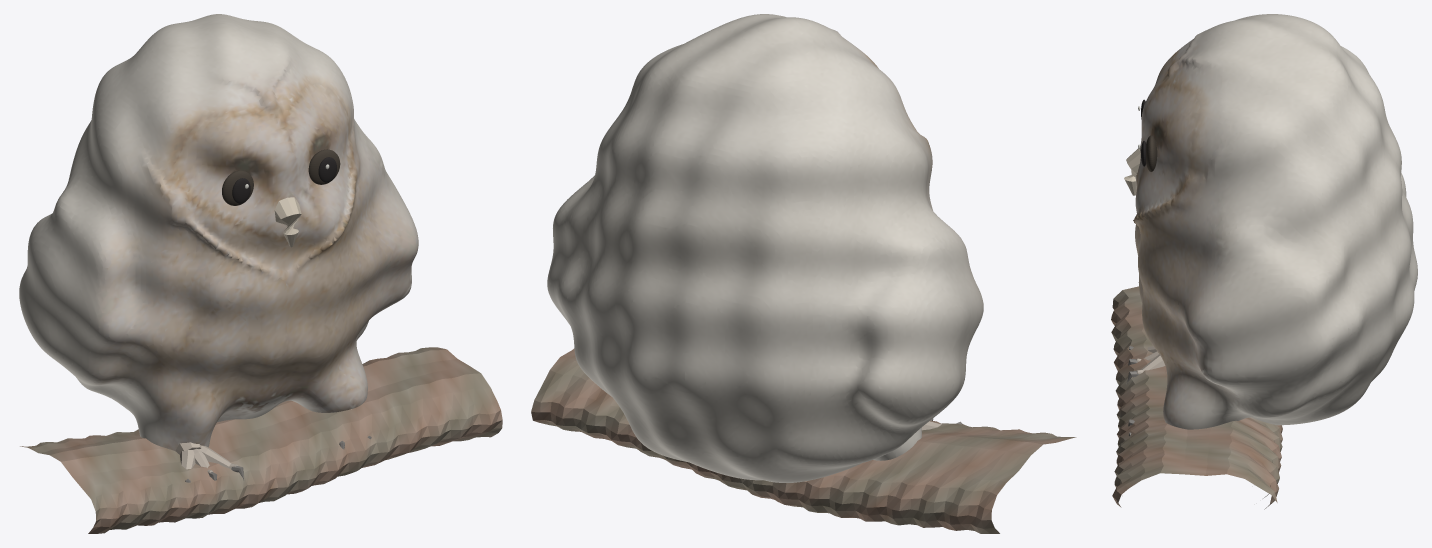
Rendered from owl172_run90_reference_projection_no_down_ART_UNREVIEWED.glb.
3 renders of one model, left to right at view 1: azimuth 30°, elevation 25°; view 2: azimuth 150°, elevation 25°; view 3: azimuth 270°, elevation 25°, orthographic. The views are drawn at different scales.
Visible parts, largest first — view 1: ORGANIC_CONNECTED_HEAD_BODY_HEART_RELIEF, TEMPORARY_BARK_SUPPORT_RESEARCH_ONLY, ivory_hooked_bill; view 2: ORGANIC_CONNECTED_HEAD_BODY_HEART_RELIEF, TEMPORARY_BARK_SUPPORT_RESEARCH_ONLY; view 3: ORGANIC_CONNECTED_HEAD_BODY_HEART_RELIEF, TEMPORARY_BARK_SUPPORT_RESEARCH_ONLY, ivory_hooked_bill.
Boxes of the visible parts, box(x1,y1,x2,y2) form: ORGANIC_CONNECTED_HEAD_BODY_HEART_RELIEF: box(19, 14, 418, 450); TEMPORARY_BARK_SUPPORT_RESEARCH_ONLY: box(20, 347, 502, 533); ivory_hooked_bill: box(274, 197, 301, 247); ORGANIC_CONNECTED_HEAD_BODY_HEART_RELIEF: box(547, 14, 983, 482); TEMPORARY_BARK_SUPPORT_RESEARCH_ONLY: box(531, 348, 1076, 533); ORGANIC_CONNECTED_HEAD_BODY_HEART_RELIEF: box(1133, 14, 1417, 429); TEMPORARY_BARK_SUPPORT_RESEARCH_ONLY: box(1111, 286, 1282, 509); ivory_hooked_bill: box(1124, 148, 1140, 195).
Size of the model in its own units: 1.3 by 1.33 by 0.8657.
